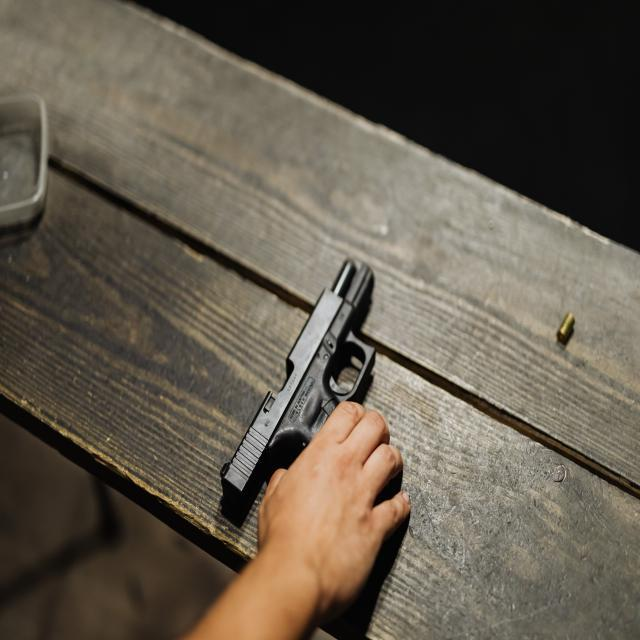Gun: (222, 260, 376, 527)
